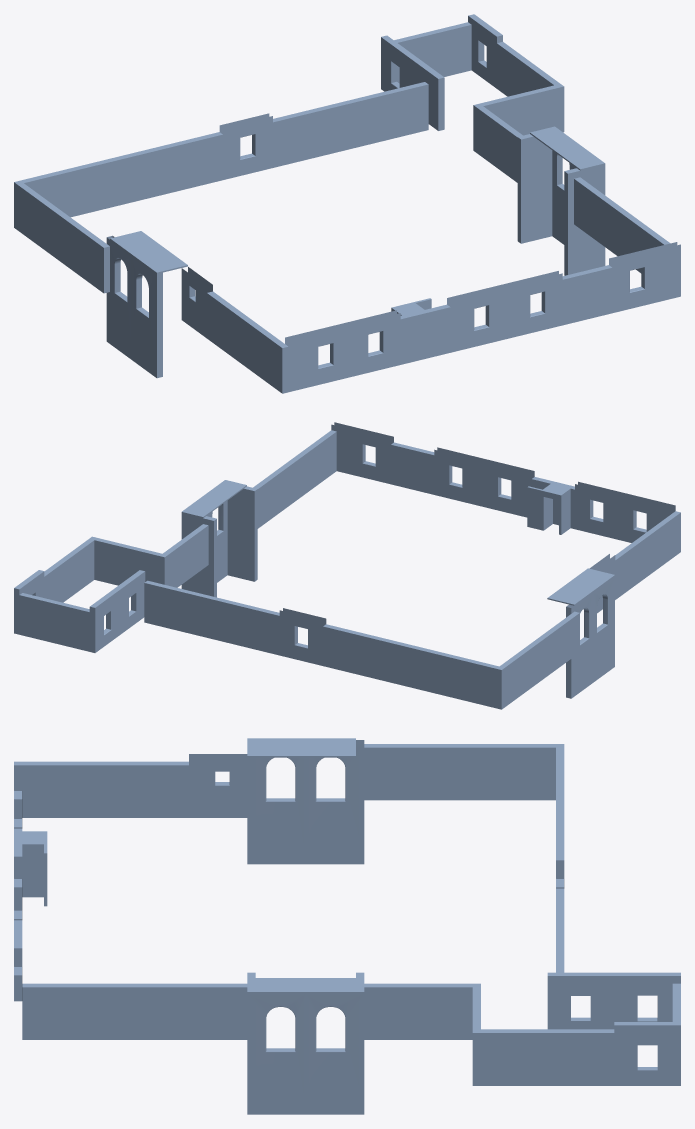
The model's file is Floor02_outer_walls.fbx.
The picture shows the model from 3 angles, top to bottom: view 1: azimuth 30°, elevation 25°; view 2: azimuth 150°, elevation 25°; view 3: azimuth 270°, elevation 25°; orthographic projection. The views are drawn at different scales.
Visible parts, largest first — view 1: wall_llong12, wall_llong9, Window9, pCylinder5, walls30, polySurface1117, walls19, walls56, polySurface1118, polySurface1125, walls71, walls73 (+14 smaller); view 2: wall_llong12, wall_llong9, walls19, walls30, pCylinder5, Window9, walls73, walls55, polySurface1117, walls71, polySurface1118, walls72 (+16 smaller); view 3: Window9, walls19, pCylinder8, walls30, pCylinder5, walls72, walls20, wall_llong24, wall_llong23, wall_llong22, walls61, walls60 (+4 smaller).
Part boxes in pixels (bbox=[...]): wall_llong12: bbox=[20, 132, 222, 217]; wall_llong9: bbox=[273, 82, 428, 167]; Window9: bbox=[181, 267, 288, 393]; pCylinder5: bbox=[106, 235, 162, 378]; walls30: bbox=[14, 180, 109, 293]; polySurface1117: bbox=[609, 242, 680, 313]; walls19: bbox=[574, 177, 670, 273]; walls56: bbox=[517, 134, 552, 243]; polySurface1118: bbox=[447, 283, 512, 352]; polySurface1125: bbox=[285, 322, 350, 391]; walls71: bbox=[473, 84, 564, 152]; walls73: bbox=[394, 22, 471, 83]; wall_llong12: bbox=[323, 624, 498, 708]; wall_llong9: bbox=[144, 580, 279, 655]; walls19: bbox=[243, 430, 336, 534]; walls30: bbox=[496, 611, 579, 709]; pCylinder5: bbox=[566, 576, 614, 698]; Window9: bbox=[589, 511, 680, 613]; walls73: bbox=[14, 593, 89, 651]; walls55: bbox=[227, 486, 257, 581]; polySurface1117: bbox=[331, 422, 393, 484]; walls71: bbox=[89, 536, 164, 585]; polySurface1118: bbox=[477, 458, 534, 517]; walls72: bbox=[44, 539, 94, 602]; Window9: bbox=[14, 754, 247, 817]; walls19: bbox=[22, 983, 247, 1039]; pCylinder8: bbox=[247, 993, 364, 1114]; walls30: bbox=[364, 744, 564, 800]; pCylinder5: bbox=[247, 740, 364, 864]; walls72: bbox=[481, 1029, 614, 1085]; walls20: bbox=[364, 983, 480, 1039]; wall_llong24: bbox=[614, 1022, 680, 1085]; wall_llong23: bbox=[547, 972, 614, 1029]; wall_llong22: bbox=[614, 972, 680, 1021]; walls61: bbox=[247, 738, 355, 757]; walls60: bbox=[247, 978, 364, 993].
Bounding box in the file's own units: 4100 × 811 × 4000.
